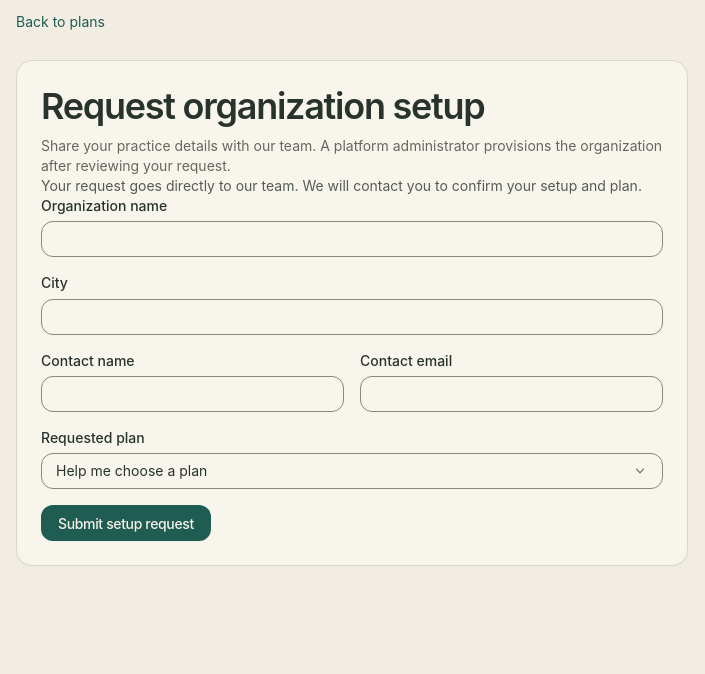
Scenario: keeps the request key across transport retries and does not show success after failure
Check: the button "Submit setup request" is enabled, box [41,505,211,541]
Step 1. Type "Care" into the field labelled "Organization name" → (352, 239), box [41,221,663,257]
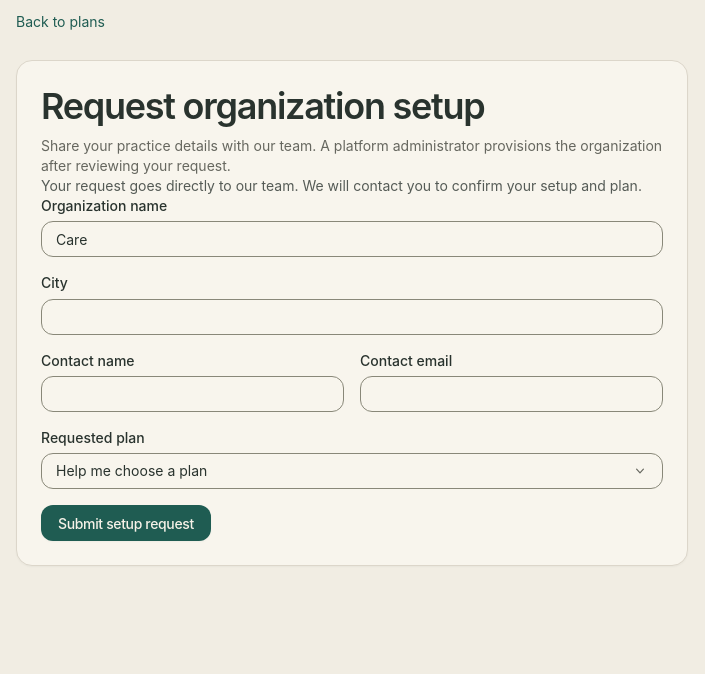
Step 2. Type "Pune" into the field labelled "City" → (352, 317), box [41,299,663,335]
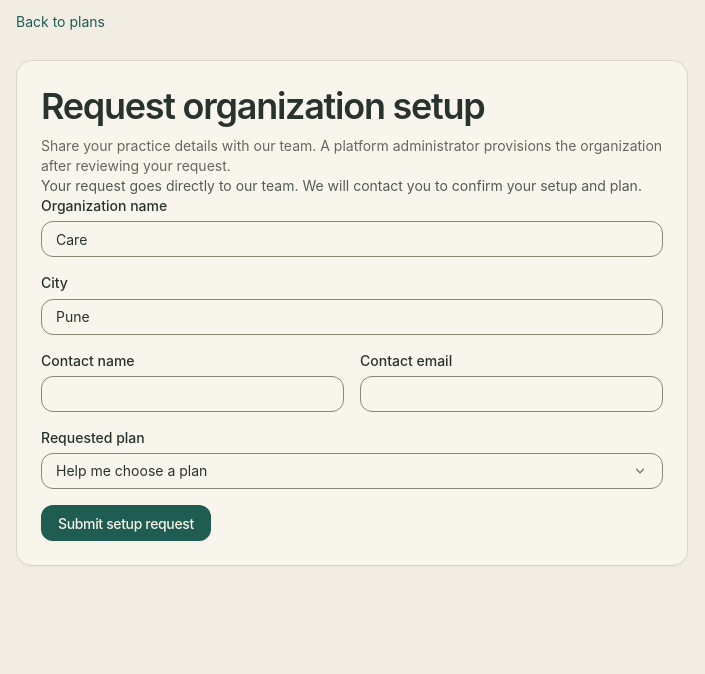
Step 3. Type "Asha" into the field labelled "Contact name" → (192, 394), box [41,376,344,412]
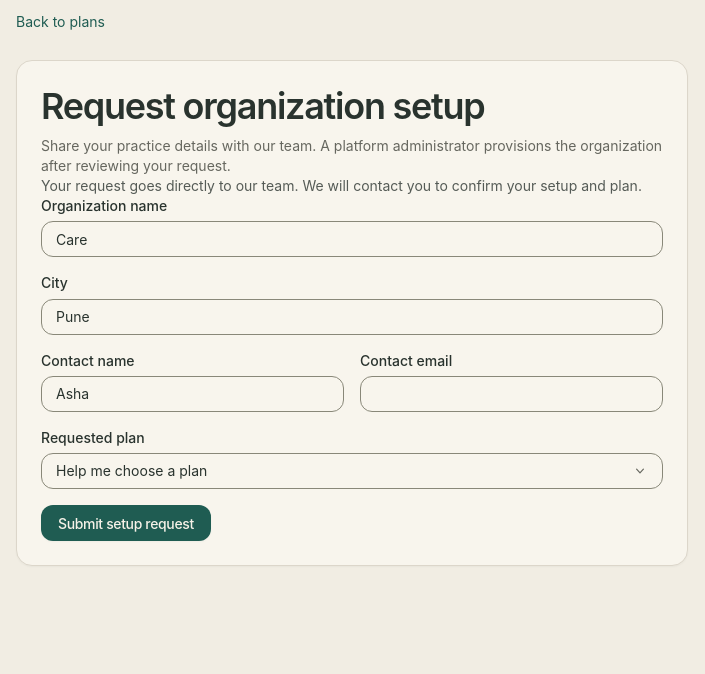
Step 4. Type "asha@example.test" into the field labelled "Contact email" → (512, 394), box [360,376,663,412]
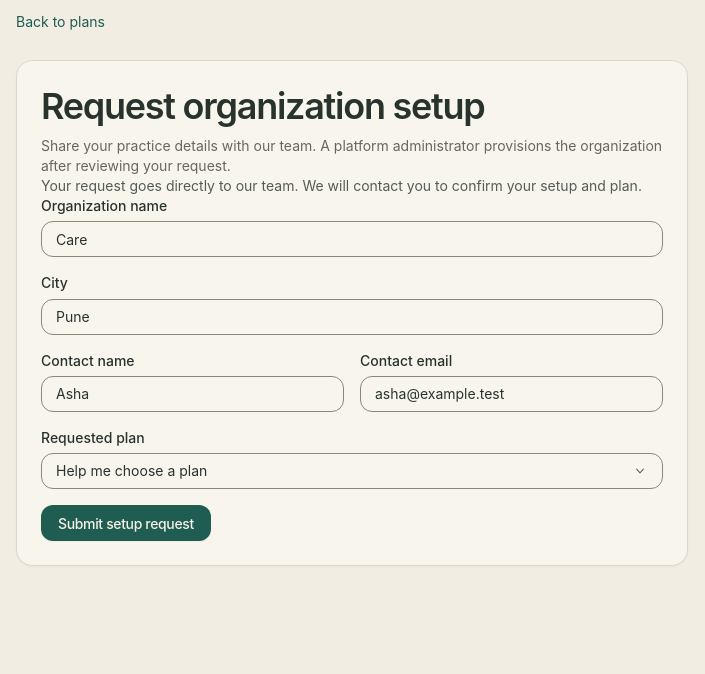
Step 5. Submit the form named "Submit setup request", box [41,196,663,541]
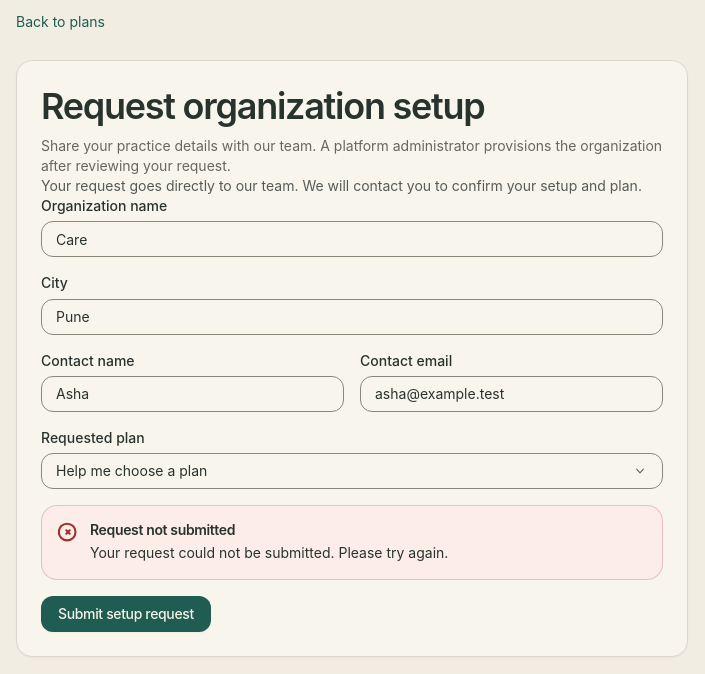
Check: the text "Request received" is not shown
Check: the text "Request not submitted" is shown, box [90,521,235,538]
Step 6. Submit the form named "Submit setup request", box [41,196,663,632]
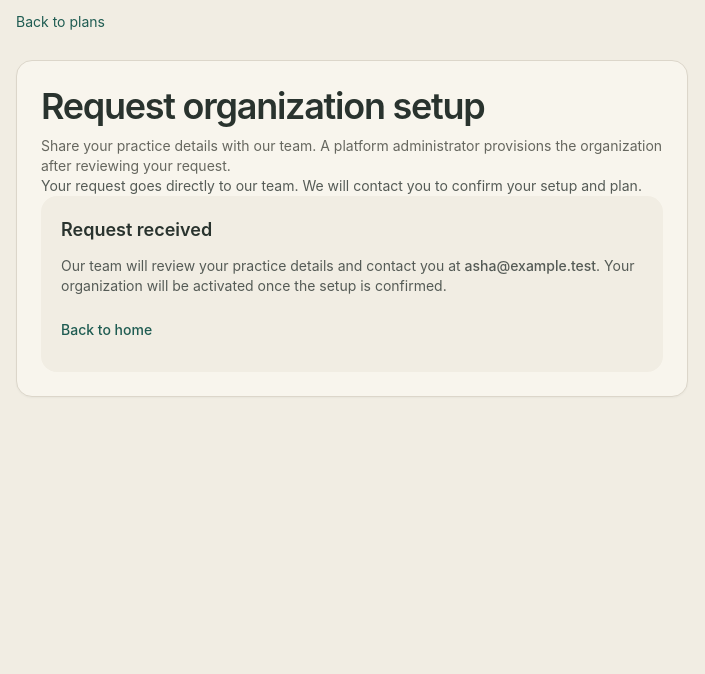
Check: the heading "Request received" is shown, box [61,219,212,240]
